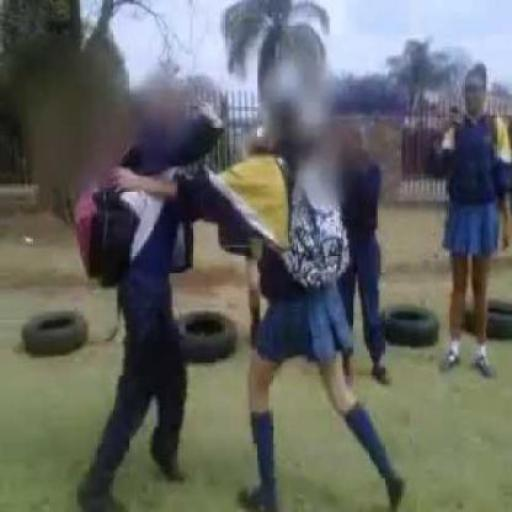Fighting: (65, 92, 425, 512)
